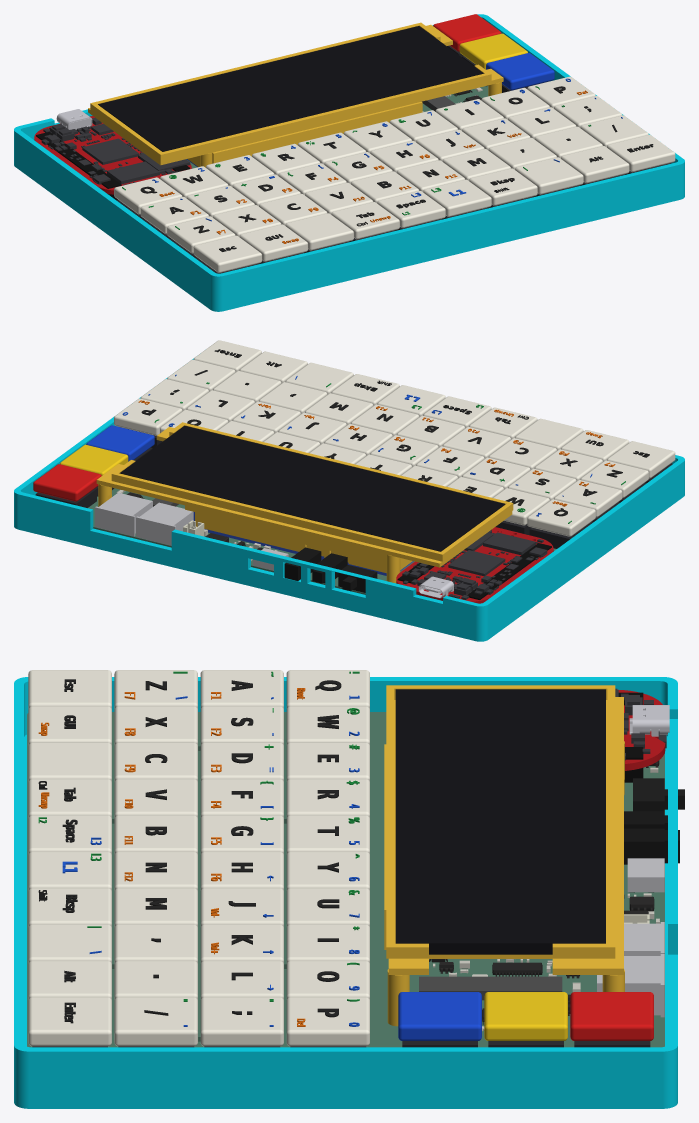
The model's file is zine.glb.
3 renders of one model, top to bottom at view 1: azimuth 30°, elevation 25°; view 2: azimuth 150°, elevation 25°; view 3: azimuth 270°, elevation 25°, orthographic. The views are drawn at different scales.
Parts seen in each view (by area): view 1: K_Cap_r0c0, Case_0, Panel_0, Display_chassis_0, K_PB2_Parts_0, K_Legend_r0c0_0, K_Mode_key3, PB2_PCB_0, K_Mode_key2, K_Mode_key1, B_b0, K_PB2_Headers_0 (+2 smaller); view 2: K_Cap_r0c0, Case_0, Panel_0, Display_chassis_0, K_PB2_Parts_0, B_b004, K_Legend_r0c0_0, PB2_PCB_0, K_Mode_key1, B_b0, K_Mode_key3, K_Mode_key2 (+6 smaller); view 3: K_Cap_r0c0, Panel_0, Case_0, Display_chassis_0, B_bancouver40_pb2_PCB, K_Legend_r0c0_0, B_b004, K_Mode_key2, K_Mode_key3, K_Mode_key1, B_b080, B_b0 (+10 smaller).
Part boxes in pixels (x1,y1,x2,y2): K_Cap_r0c0: (114, 76, 675, 272); Case_0: (14, 14, 684, 311); Panel_0: (98, 26, 483, 151); Display_chassis_0: (88, 22, 503, 167); K_PB2_Parts_0: (41, 117, 190, 185); K_Legend_r0c0_0: (140, 86, 653, 251); K_Mode_key3: (486, 53, 554, 90); PB2_PCB_0: (34, 116, 191, 194); K_Mode_key2: (459, 33, 527, 69); K_Mode_key1: (433, 14, 501, 51); B_b0: (116, 45, 670, 273); K_PB2_Headers_0: (36, 131, 189, 199); K_Cap_r0c0: (114, 340, 675, 536); Case_0: (14, 358, 684, 641); Panel_0: (119, 425, 505, 551); Display_chassis_0: (96, 422, 513, 583); K_PB2_Parts_0: (402, 529, 547, 599); B_b004: (95, 492, 288, 570); K_Legend_r0c0_0: (141, 349, 649, 516); PB2_PCB_0: (396, 527, 553, 603); K_Mode_key1: (33, 464, 101, 501); B_b0: (35, 427, 672, 548); K_Mode_key3: (86, 425, 154, 461); K_Mode_key2: (60, 444, 128, 475); K_Cap_r0c0: (28, 670, 369, 1046); Panel_0: (395, 689, 605, 954); Case_0: (14, 677, 677, 1108); Display_chassis_0: (384, 685, 624, 1026); B_bancouver40_pb2_PCB: (27, 712, 664, 1047); K_Legend_r0c0_0: (38, 679, 341, 1023); B_b004: (597, 858, 664, 1017); K_Mode_key2: (484, 992, 567, 1040); K_Mode_key3: (398, 992, 481, 1040); K_Mode_key1: (570, 992, 653, 1040); B_b080: (419, 976, 562, 1000); B_b0: (32, 1041, 650, 1047).
Bounding box in the file's own units: 0.1752 × 0.0211 × 0.1326.
